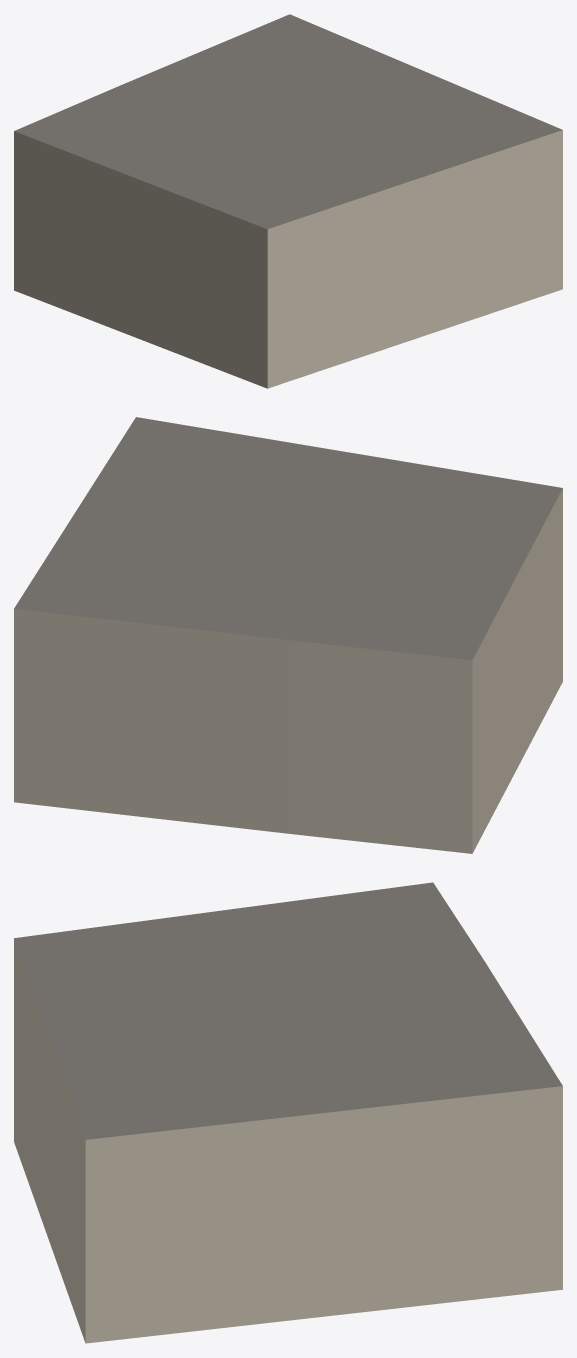
3 renders of one model, top to bottom at view 1: azimuth 30°, elevation 25°; view 2: azimuth 150°, elevation 25°; view 3: azimuth 270°, elevation 25°, orthographic. The views are drawn at different scales.
Parts seen in each view (by area): view 1: HP-w495116056; view 2: HP-w495116056; view 3: HP-w495116056.
Boxes of the visible parts, bbox=[...] form: HP-w495116056: bbox=[14, 14, 562, 388]; HP-w495116056: bbox=[14, 417, 562, 853]; HP-w495116056: bbox=[14, 882, 562, 1343].
Bounding box in the file's own units: 48.8 × 18 × 43.97.
